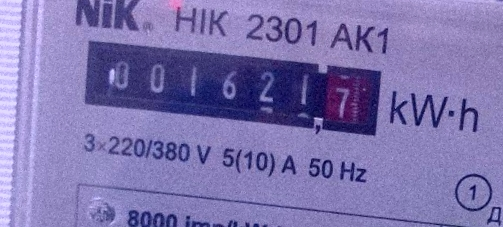0: (143, 57, 170, 97), (109, 54, 133, 91)
1: (294, 68, 313, 107), (184, 61, 202, 98)
2: (254, 67, 280, 105)
6: (217, 66, 241, 102)
7: (328, 82, 353, 120)
screen: (74, 26, 390, 149)
